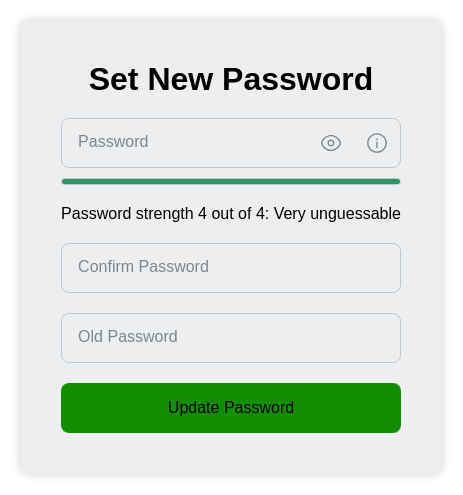
Test: Functionality › Form; Input validation; if confirmed password is incorrect display error
Step 1. Type "s!i0bF$qeVx" into the password field labelled "Password" → (185, 143), box x1=62 y1=119 x2=308 y2=167
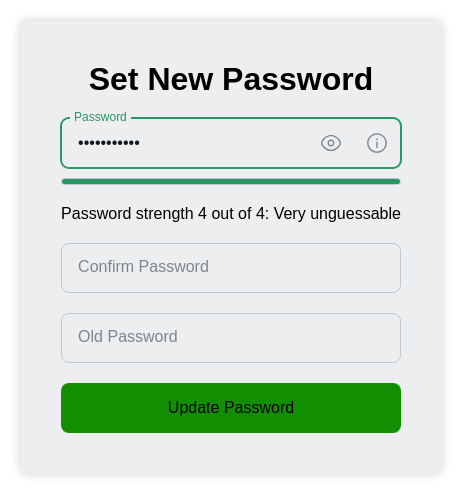
Step 2. Type "abc" into the password field labelled "Confirm Password" → (231, 268), box x1=62 y1=244 x2=400 y2=292
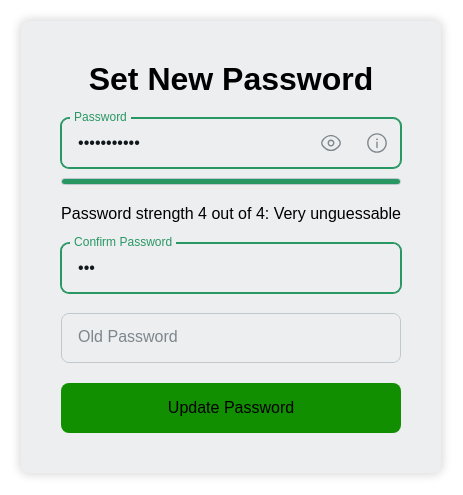
Step 3. Type "t!i0bF$qeVx" into the password field labelled "Old Password" → (231, 338), box x1=62 y1=314 x2=400 y2=362
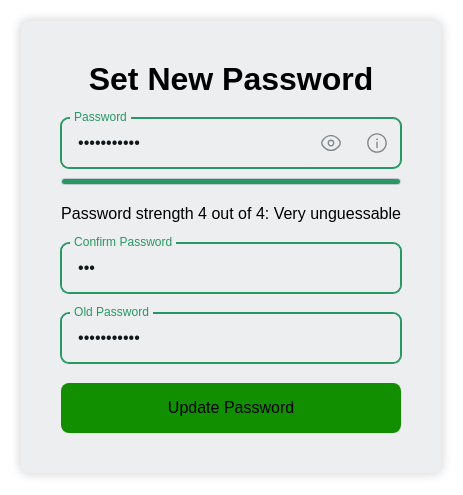
Step 4. Click the button "Update Password" → (231, 408), box x1=61 y1=383 x2=401 y2=433
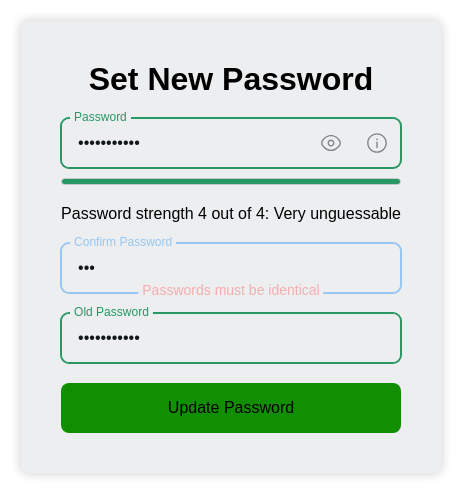
Expected: the text "Passwords must be identical" is shown, x1=138 y1=282 x2=324 y2=298
